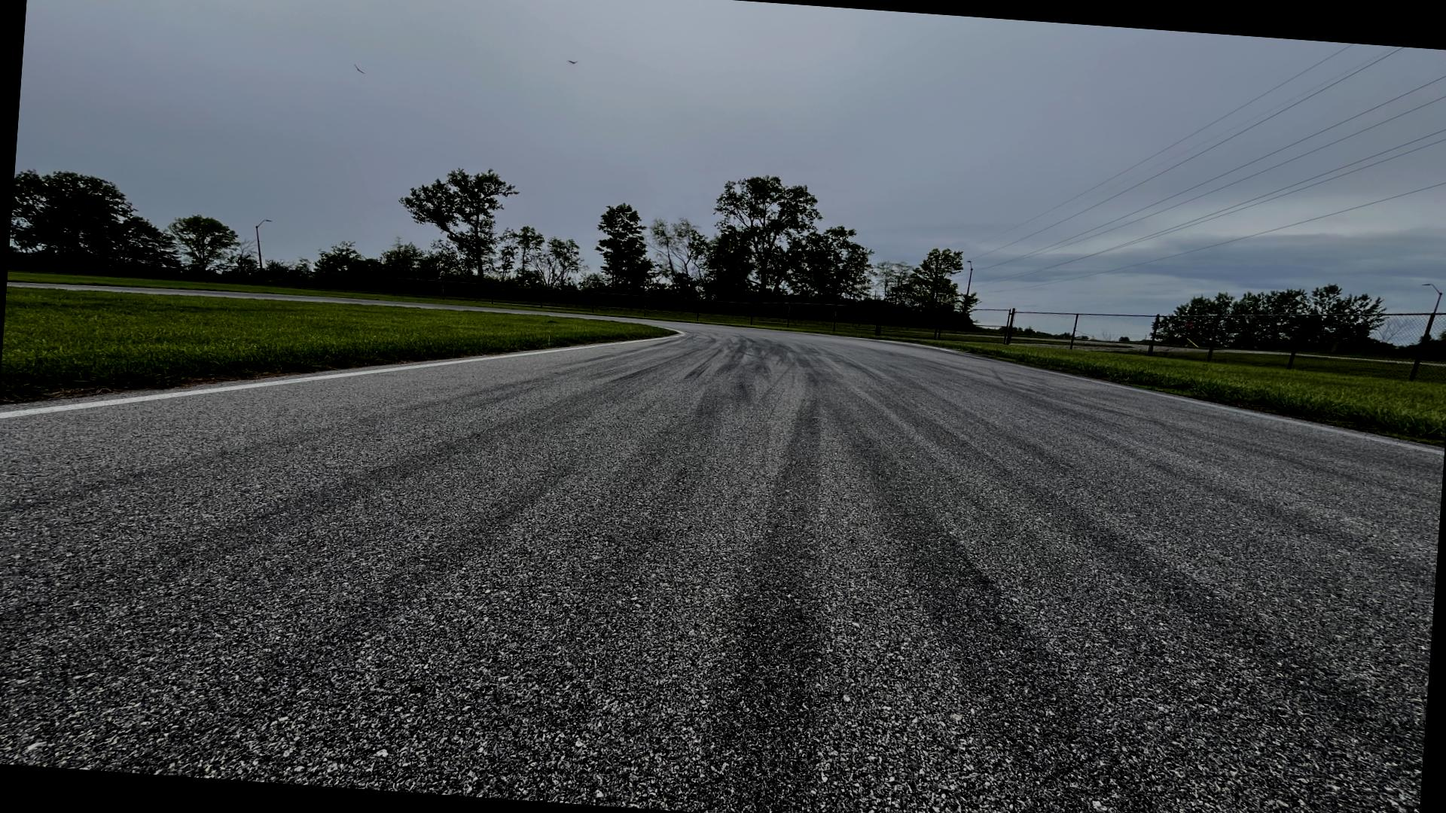white-line: (673, 322, 1444, 456), (0, 327, 685, 422)
